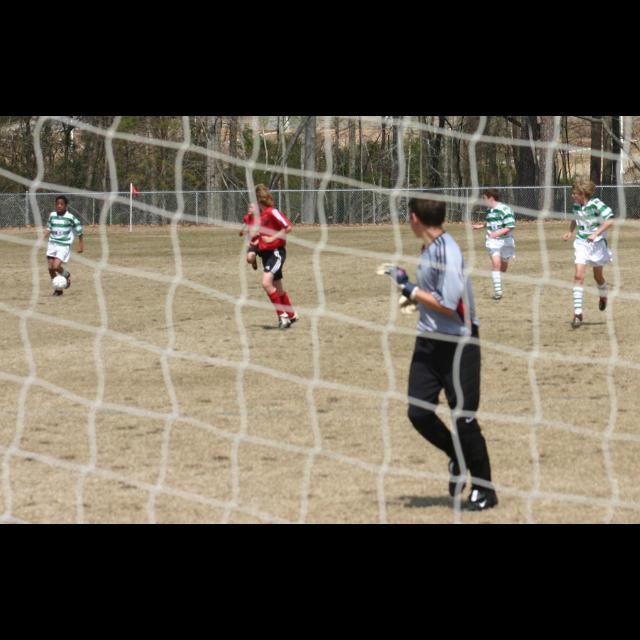Football: (50, 275, 70, 291)
